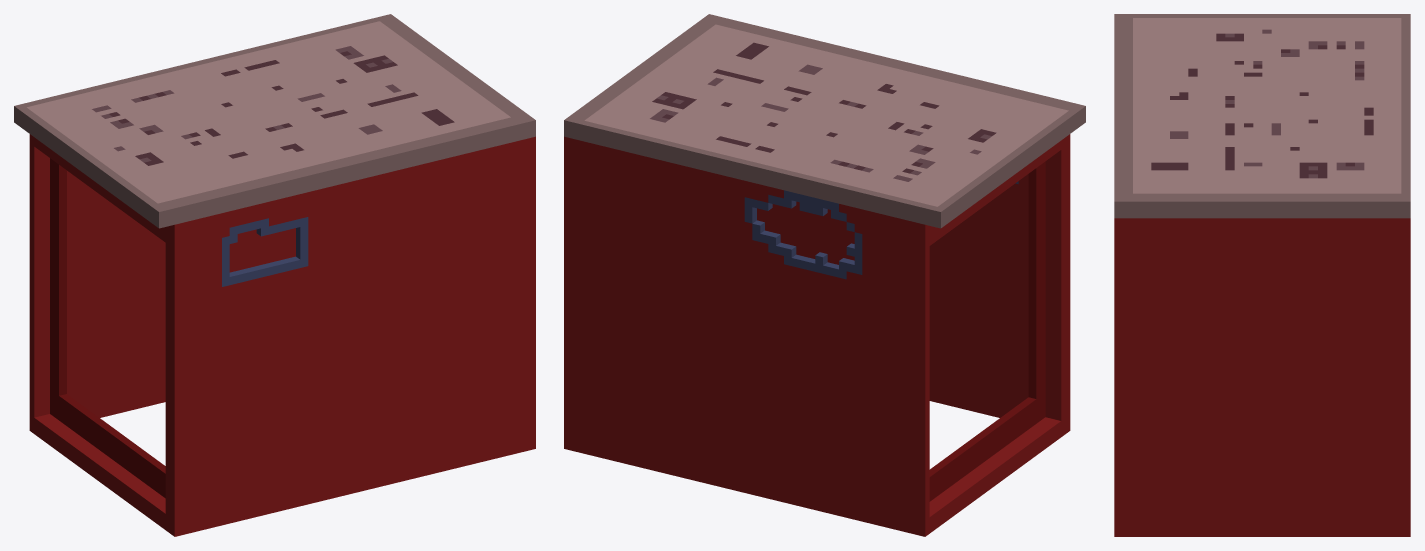
The model's file is BaseCajon1.fbx.
3 renders of one model, left to right at view 1: azimuth 30°, elevation 25°; view 2: azimuth 150°, elevation 25°; view 3: azimuth 270°, elevation 25°, orthographic. The views are drawn at different scales.
Visible parts, largest first — view 1: Base_Cajon_1; view 2: Base_Cajon_1; view 3: Base_Cajon_1.
Boxes of the visible parts, box(x1,y1,x2,y2) form: Base_Cajon_1: box(14, 14, 535, 536); Base_Cajon_1: box(564, 14, 1085, 536); Base_Cajon_1: box(1114, 14, 1410, 536).
Bounding box in the file's own units: 480 × 400 × 320.
